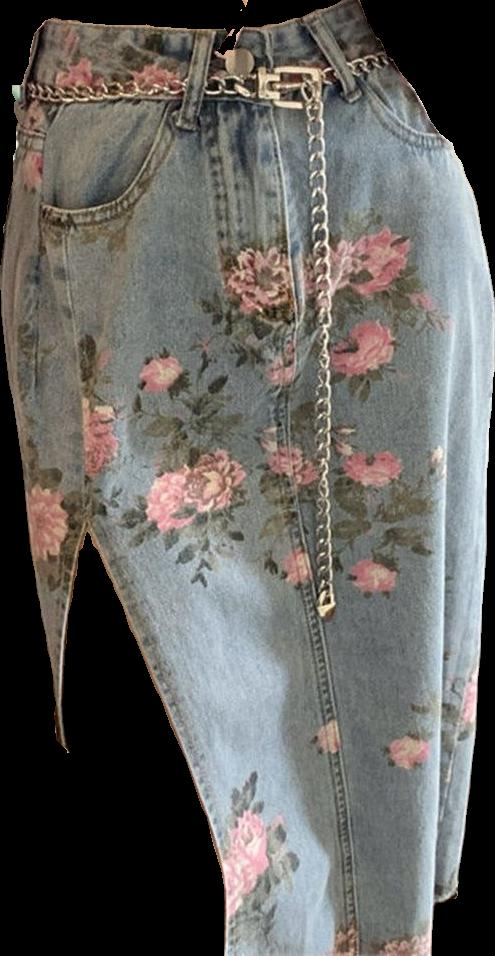Hemline: (57, 517, 466, 955)
Waistline: (20, 48, 388, 109), (44, 0, 356, 39)
